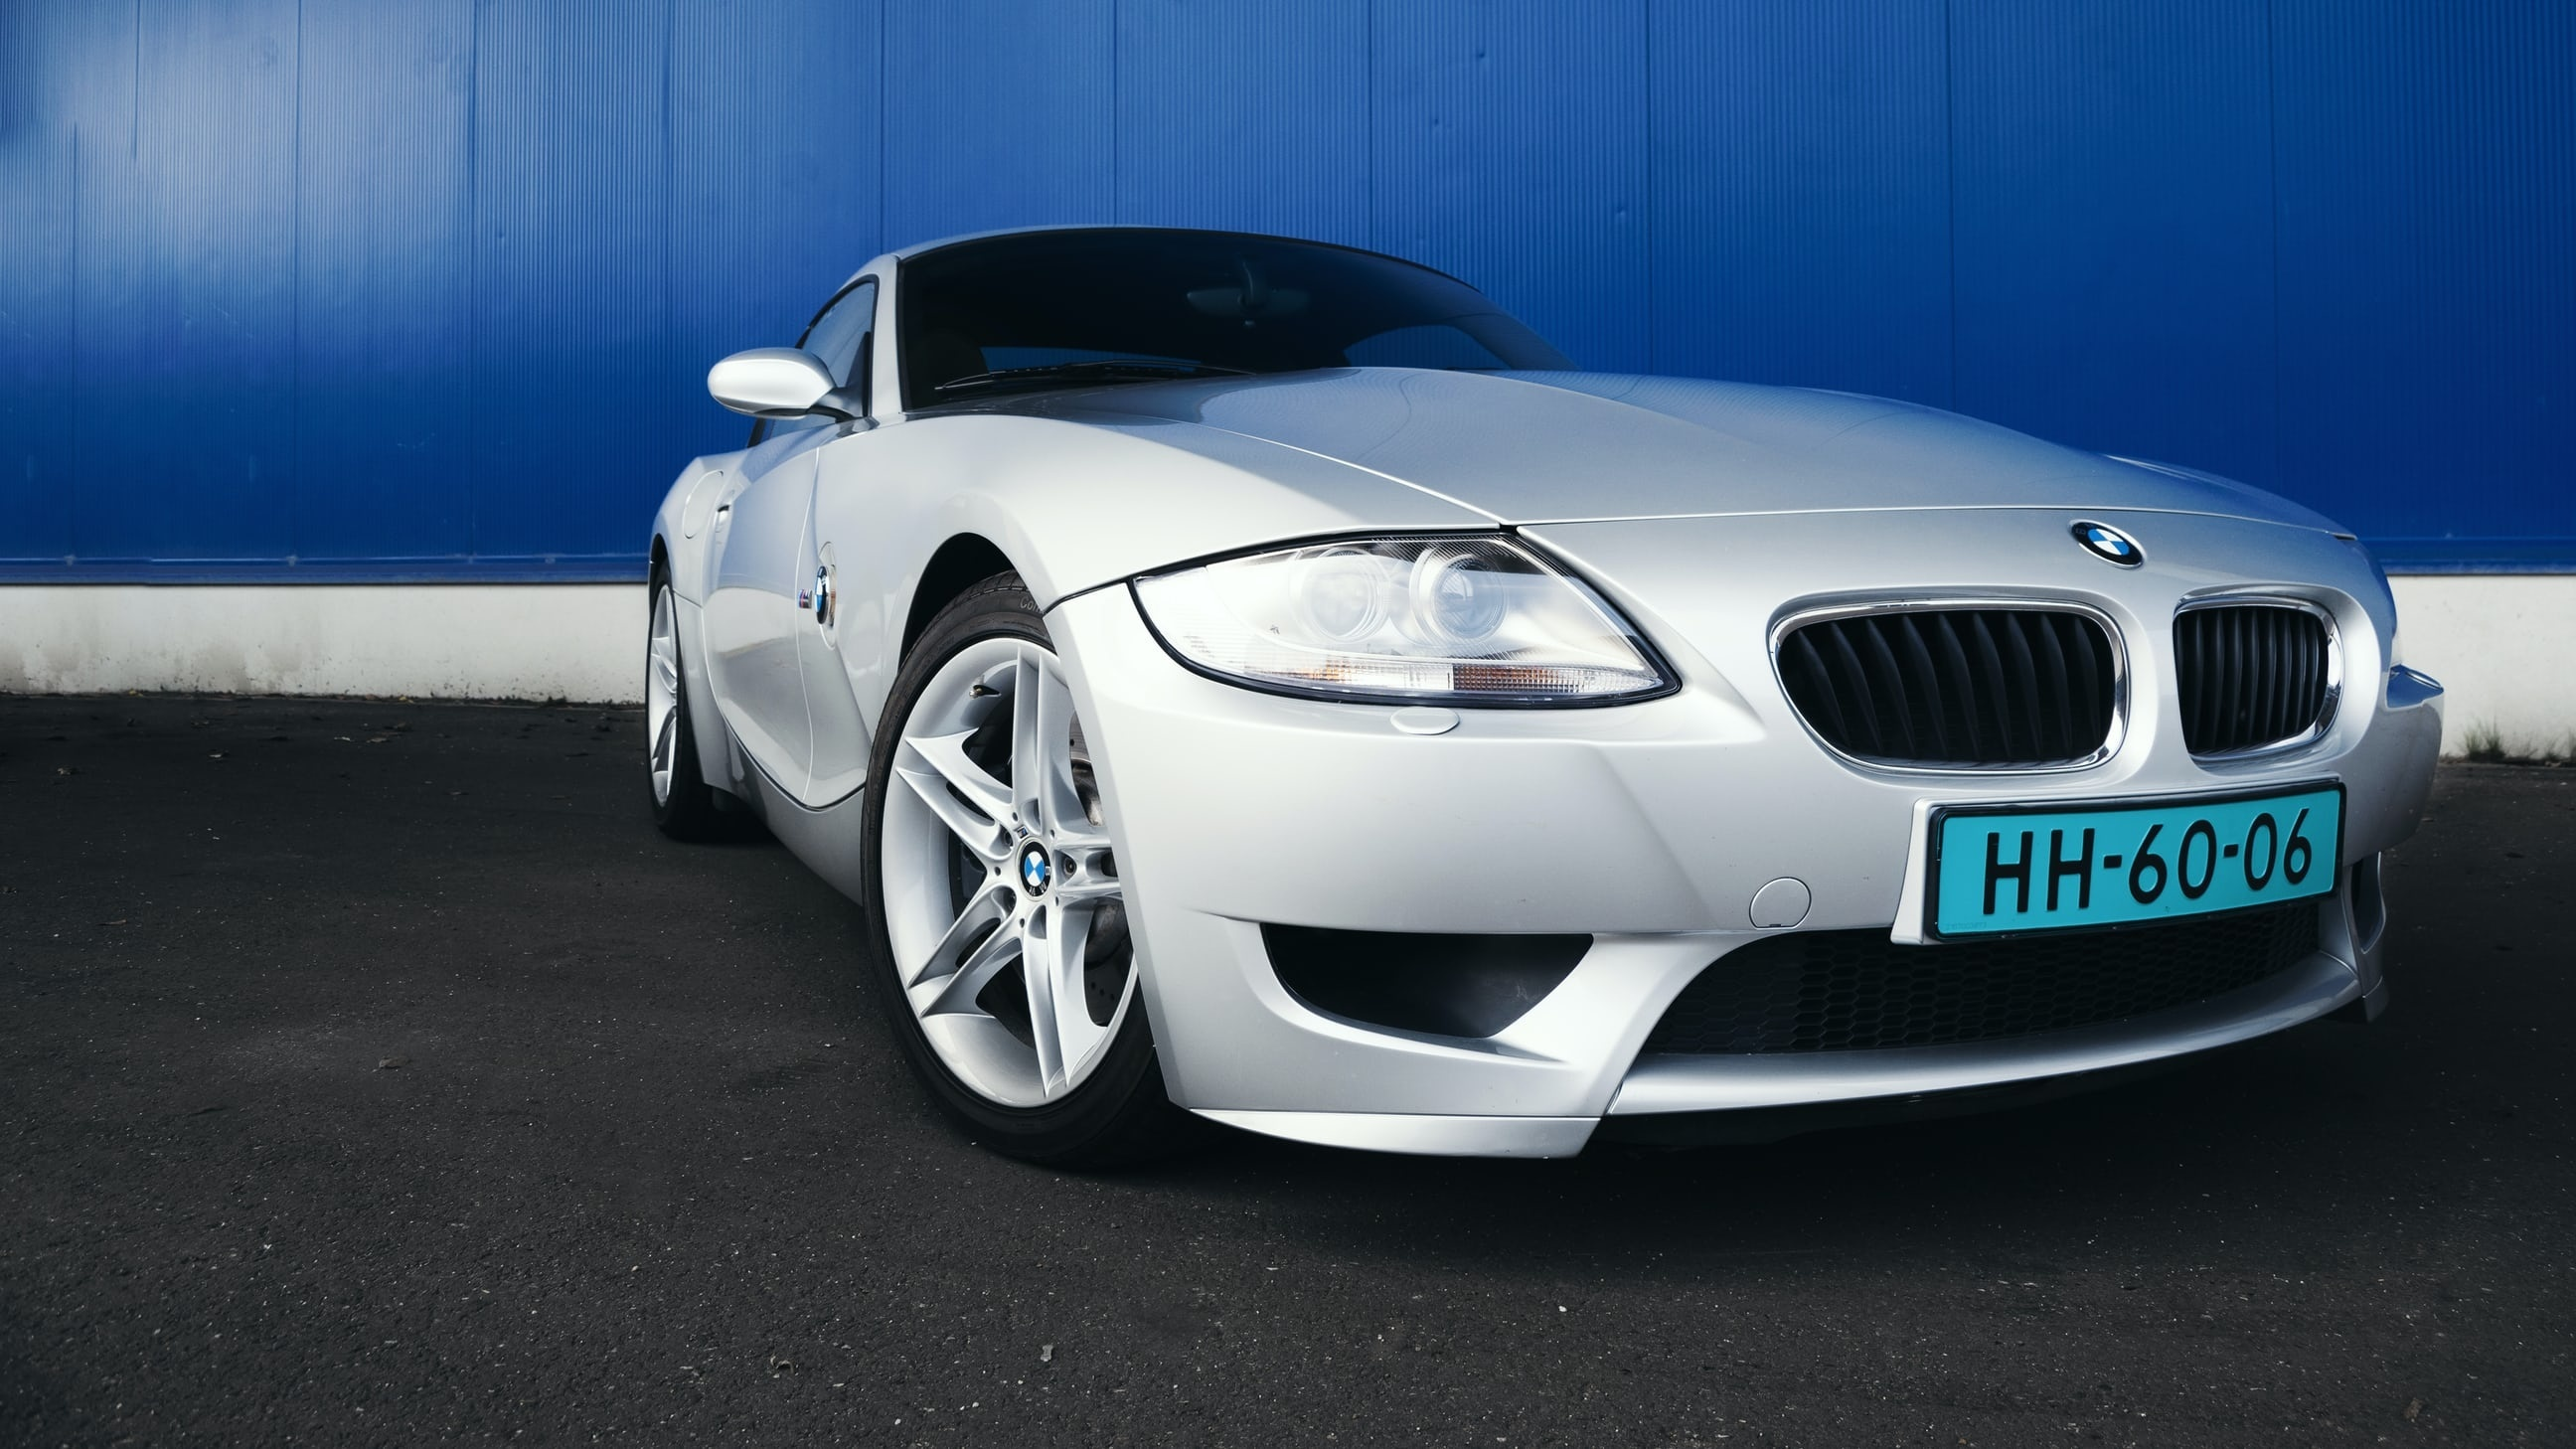plaka: (1926, 780, 2351, 943)
